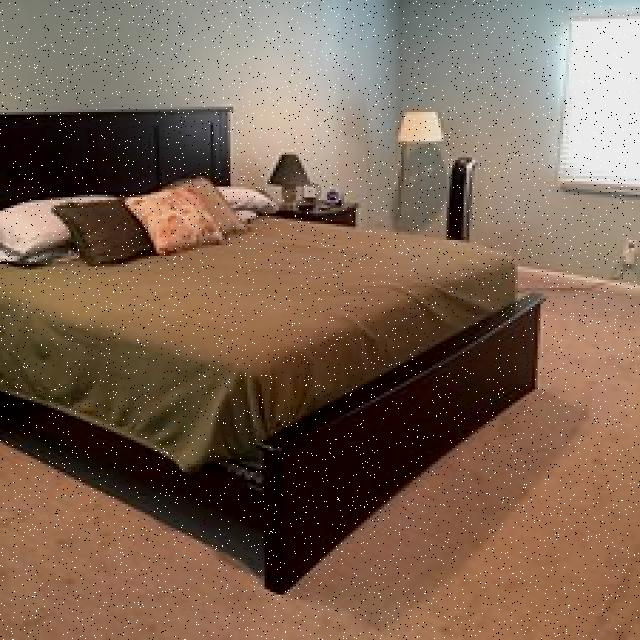bed: (0, 171, 549, 453)
